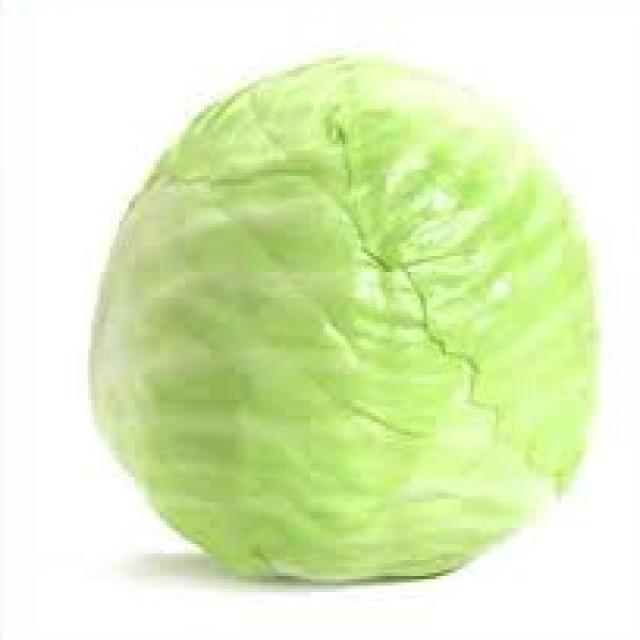cabbage: (75, 35, 612, 589)
